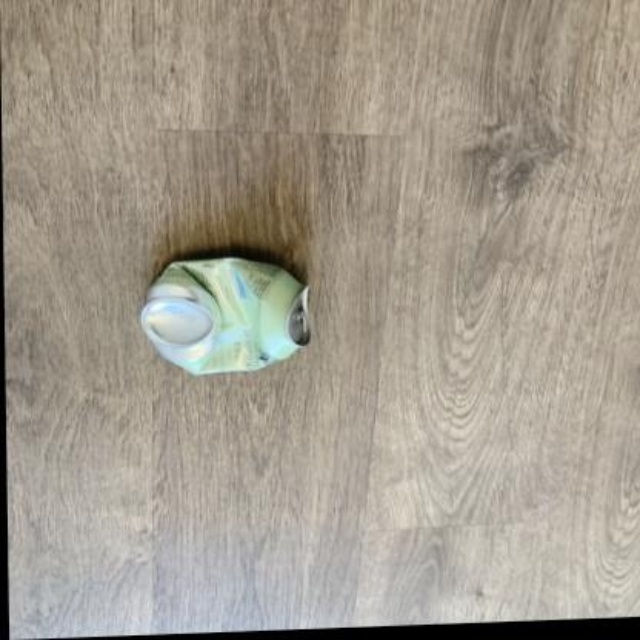trash: (142, 257, 309, 374)
